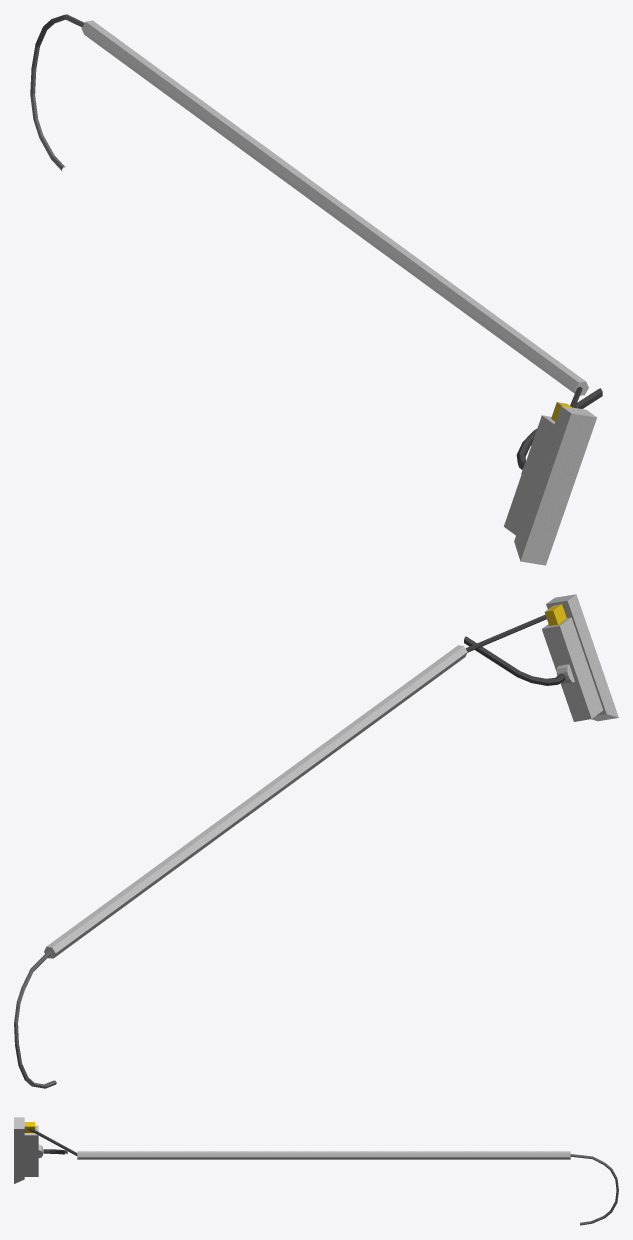
Rendered from qt-jk-014-geode.glb.
3 renders of one model, top to bottom at view 1: azimuth 30°, elevation 25°; view 2: azimuth 150°, elevation 25°; view 3: azimuth 270°, elevation 25°, orthographic. The views are drawn at different scales.
Parts seen in each view (by area): view 1: Node; view 2: Node; view 3: Node.
Part boxes in pixels (x1=…): Node: x1=30, y1=14, x2=602, y2=565; Node: x1=14, y1=594, x2=618, y2=1088; Node: x1=14, y1=1117, x2=618, y2=1225.
Bounding box in the file's own units: 0.2526 × 0.3419 × 2.
4 materials, 4 textured.
